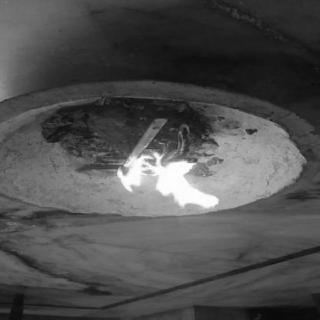Fire: (108, 152, 224, 218)
